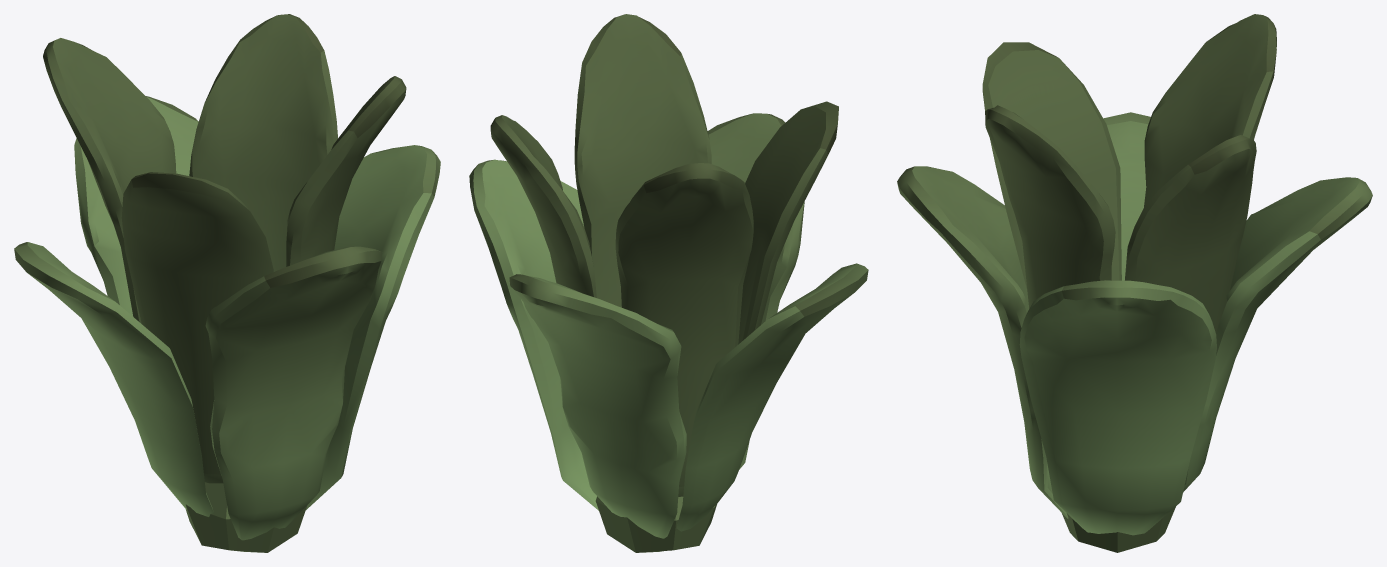
File: 3D_Items_Laitue.fbx
3 renders of one model, left to right at view 1: azimuth 30°, elevation 25°; view 2: azimuth 150°, elevation 25°; view 3: azimuth 270°, elevation 25°, orthographic. The views are drawn at different scales.
Parts seen in each view (by area): view 1: 3D_Items_Laitue; view 2: 3D_Items_Laitue; view 3: 3D_Items_Laitue.
Part boxes in pixels (x1,y1,x2,y2): 3D_Items_Laitue: [14, 14, 440, 552]; 3D_Items_Laitue: [469, 14, 868, 552]; 3D_Items_Laitue: [897, 14, 1372, 552].
Bounding box in the file's own units: 80.59 × 93.39 × 82.87.
